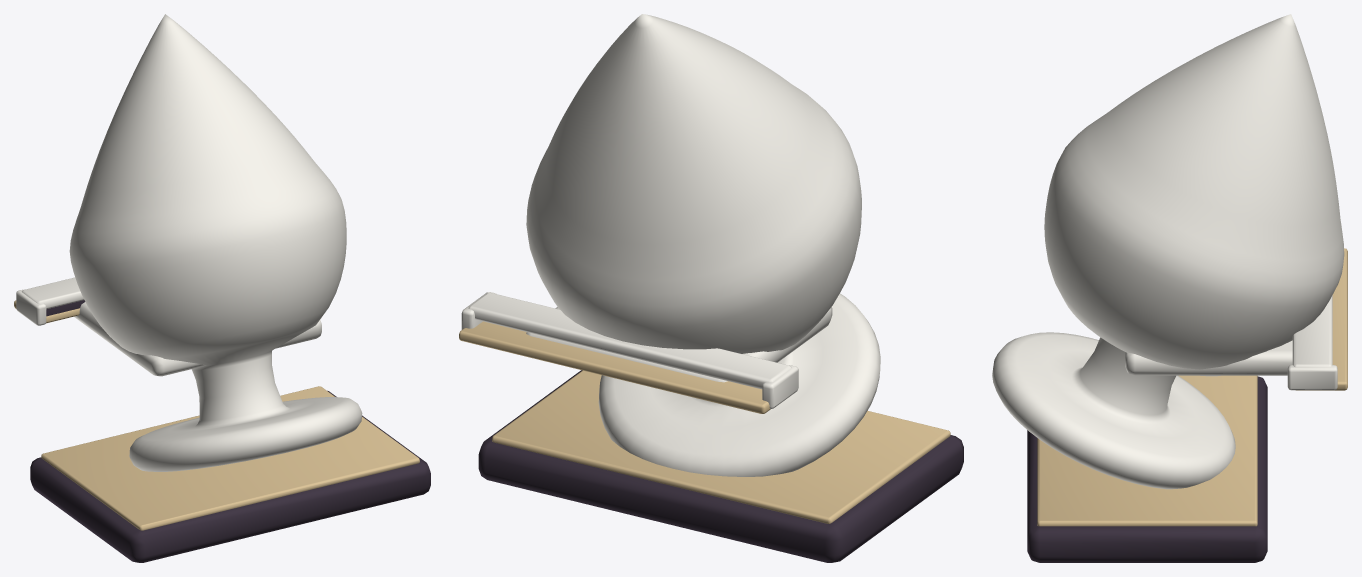
Rendered from spout-threshold.glb.
The picture shows the model from 3 angles, left to right: view 1: azimuth 30°, elevation 25°; view 2: azimuth 150°, elevation 25°; view 3: azimuth 270°, elevation 25°; orthographic projection. The views are drawn at different scales.
Parts seen in each view (by area): view 1: pawn_silicone, threshold_collar, threshold_ink; view 2: pawn_silicone, threshold_collar, threshold_ink; view 3: pawn_silicone, threshold_collar, threshold_ink.
Boxes of the visible parts, x1,y1,x2,y2 form: pawn_silicone: [16, 14, 362, 471]; threshold_collar: [14, 300, 419, 530]; threshold_ink: [30, 300, 430, 562]; pawn_silicone: [461, 14, 880, 476]; threshold_collar: [459, 321, 950, 523]; threshold_ink: [478, 370, 963, 562]; pawn_silicone: [992, 14, 1344, 489]; threshold_collar: [1037, 248, 1347, 526]; threshold_ink: [1027, 376, 1267, 562].
Size of the model in its own units: 7.6 by 10.43 by 7.1.
